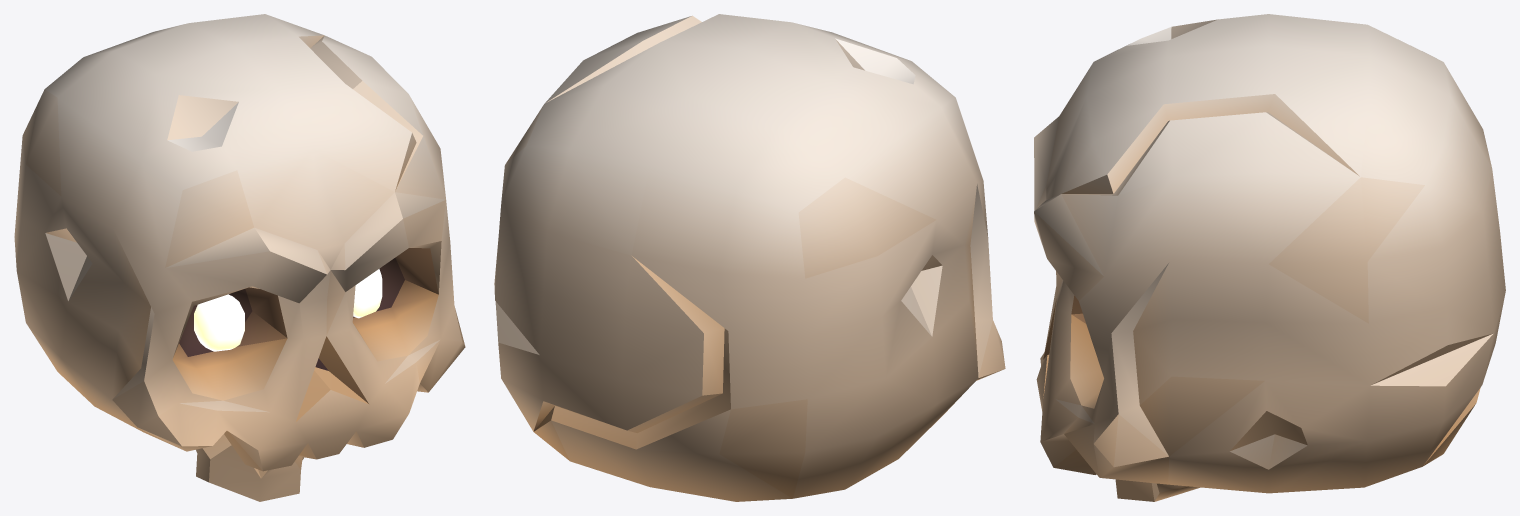
The model's file is goblin_head.glb.
The picture shows the model from 3 angles, left to right: view 1: azimuth 30°, elevation 25°; view 2: azimuth 150°, elevation 25°; view 3: azimuth 270°, elevation 25°; orthographic projection. The views are drawn at different scales.
Visible parts, largest first — view 1: Skeleton_Minion_Head, Skeleton_Minion_Jaw, Skeleton_Minion_Eyes; view 2: Skeleton_Minion_Head; view 3: Skeleton_Minion_Head, Skeleton_Minion_Jaw.
Part boxes in pixels (<box>): Skeleton_Minion_Head: <box>14,14,465,471</box>; Skeleton_Minion_Jaw: <box>196,434,304,501</box>; Skeleton_Minion_Eyes: <box>194,269,382,351</box>; Skeleton_Minion_Head: <box>494,14,1005,501</box>; Skeleton_Minion_Head: <box>1034,14,1505,493</box>; Skeleton_Minion_Jaw: <box>1115,479,1200,501</box>.
Bounding box in the file's own units: 0.8709 × 0.9728 × 0.9122.
Materials: 2 (1 with a texture image).
